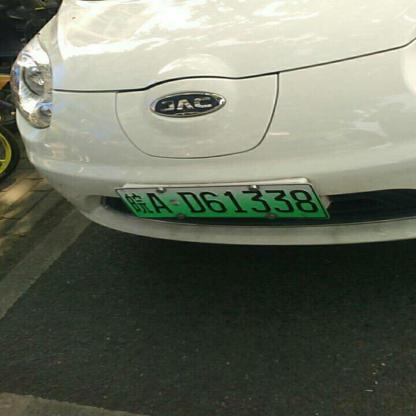lp: (116, 184, 328, 217)
